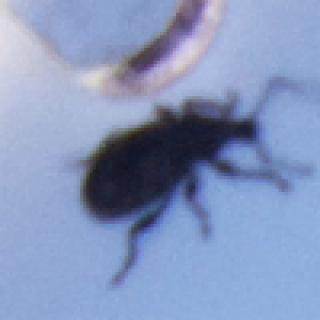bvw: (74, 74, 314, 290)
